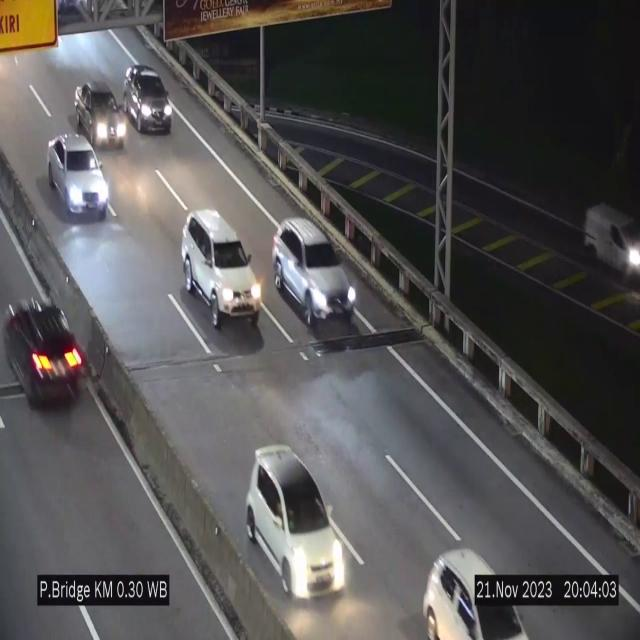Car: (247, 446, 345, 596), (0, 278, 96, 422), (417, 531, 533, 640), (182, 210, 260, 328), (273, 219, 357, 327), (577, 192, 640, 293), (48, 132, 110, 217), (76, 76, 124, 156), (124, 65, 172, 131)
